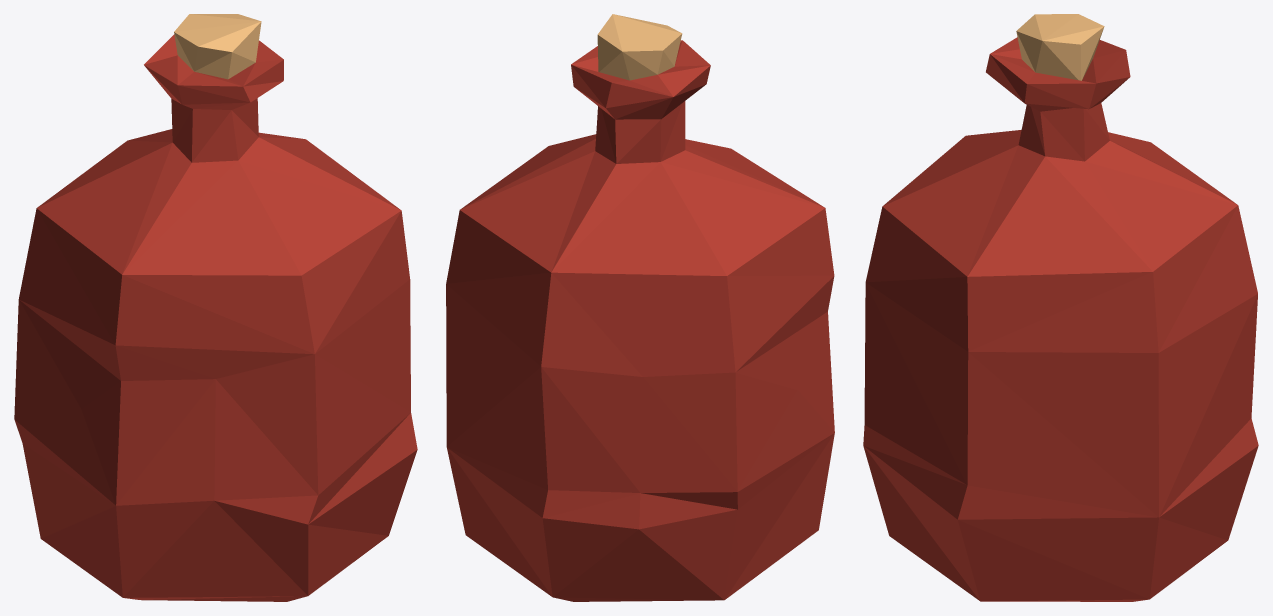
File: SFV_Bottles_002.fbx
3 renders of one model, left to right at view 1: azimuth 30°, elevation 25°; view 2: azimuth 150°, elevation 25°; view 3: azimuth 270°, elevation 25°, orthographic.
Parts seen in each view (by area): view 1: SFV_Bottles_002; view 2: SFV_Bottles_002; view 3: SFV_Bottles_002.
Part boxes in pixels (bbox=[...]): SFV_Bottles_002: bbox=[14, 14, 417, 601]; SFV_Bottles_002: bbox=[446, 14, 834, 601]; SFV_Bottles_002: bbox=[863, 14, 1258, 601].
Size of the model in its own units: 12.05 by 20.13 by 13.76.
